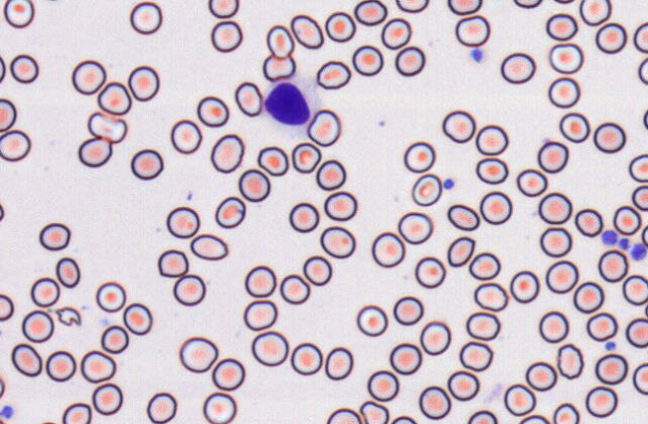MONO: (262, 77, 323, 136)
PLT: (629, 242, 647, 261), (600, 228, 618, 245), (0, 403, 15, 420), (470, 47, 485, 64), (617, 237, 630, 250), (604, 340, 618, 352), (443, 178, 456, 190)
RBC: (179, 336, 218, 372), (251, 330, 288, 366), (210, 134, 244, 173), (71, 59, 106, 94), (371, 231, 405, 267), (80, 350, 116, 383), (97, 81, 131, 115), (320, 225, 355, 258), (397, 211, 432, 244), (127, 65, 159, 101), (211, 357, 245, 390), (418, 385, 451, 419), (442, 109, 475, 143), (290, 14, 323, 48), (455, 14, 490, 46), (545, 260, 578, 293), (21, 309, 54, 342), (479, 191, 512, 224), (129, 1, 162, 34), (202, 391, 236, 423), (238, 168, 270, 202), (170, 119, 202, 153), (538, 192, 572, 224), (419, 320, 450, 355), (500, 52, 535, 83), (548, 42, 583, 73), (91, 382, 123, 415), (503, 383, 535, 416), (290, 342, 322, 375), (166, 206, 199, 238), (130, 148, 163, 180), (593, 121, 626, 153), (196, 95, 229, 127), (323, 190, 357, 221), (243, 299, 277, 330), (78, 136, 112, 167), (459, 340, 493, 371), (189, 233, 228, 260), (173, 273, 205, 305), (367, 369, 399, 401), (389, 342, 421, 374), (244, 265, 276, 297), (548, 76, 580, 108), (585, 385, 617, 417), (210, 20, 242, 52), (597, 249, 628, 282), (11, 343, 42, 376), (539, 226, 572, 257), (594, 353, 627, 384), (475, 124, 508, 155), (537, 140, 568, 173), (473, 282, 508, 311), (465, 311, 500, 340), (0, 129, 31, 161), (356, 304, 387, 336), (573, 281, 604, 313), (214, 196, 245, 228), (414, 256, 445, 288), (403, 141, 435, 172), (595, 22, 627, 53), (324, 11, 356, 42), (352, 44, 383, 76), (509, 270, 539, 303), (538, 310, 568, 343), (411, 173, 441, 206), (122, 302, 152, 335), (324, 346, 353, 380), (316, 60, 350, 89), (234, 81, 262, 116), (556, 343, 583, 379), (95, 281, 126, 312), (279, 273, 310, 304), (315, 159, 346, 190), (45, 350, 76, 381), (146, 392, 177, 423), (394, 45, 425, 76), (447, 370, 479, 400), (525, 361, 557, 391), (381, 17, 411, 49), (266, 24, 294, 58), (291, 142, 321, 173), (586, 311, 617, 341), (288, 202, 319, 232), (257, 146, 288, 176), (559, 112, 590, 142), (468, 251, 500, 280), (393, 295, 423, 325), (516, 168, 547, 197), (447, 235, 475, 267), (475, 157, 508, 184), (302, 255, 331, 285), (30, 277, 59, 307), (3, 0, 34, 28), (157, 249, 188, 277), (39, 222, 70, 250), (447, 203, 479, 230), (545, 13, 577, 40), (353, 0, 387, 25), (9, 54, 38, 83), (574, 208, 603, 237), (613, 205, 641, 235), (100, 324, 128, 353), (55, 256, 80, 288), (579, 0, 611, 25), (622, 274, 647, 305), (625, 317, 647, 348), (62, 402, 91, 423), (326, 407, 362, 423), (552, 402, 579, 423), (208, 0, 239, 18), (628, 153, 647, 182), (0, 98, 16, 131), (447, 0, 482, 15), (632, 362, 647, 395), (633, 22, 647, 53), (395, 0, 428, 13), (467, 409, 497, 423), (631, 184, 647, 210), (0, 293, 14, 321), (519, 414, 550, 423), (638, 57, 647, 84), (513, 0, 542, 8), (390, 415, 416, 423), (0, 54, 6, 83), (641, 224, 648, 247), (643, 108, 648, 130), (0, 376, 5, 398), (552, 0, 574, 4), (0, 201, 4, 222), (644, 302, 648, 318), (39, 421, 58, 424), (42, 0, 63, 1)
Schistocyte: (87, 112, 128, 143), (308, 110, 340, 147), (263, 54, 297, 80), (360, 401, 391, 424), (55, 307, 83, 328)
